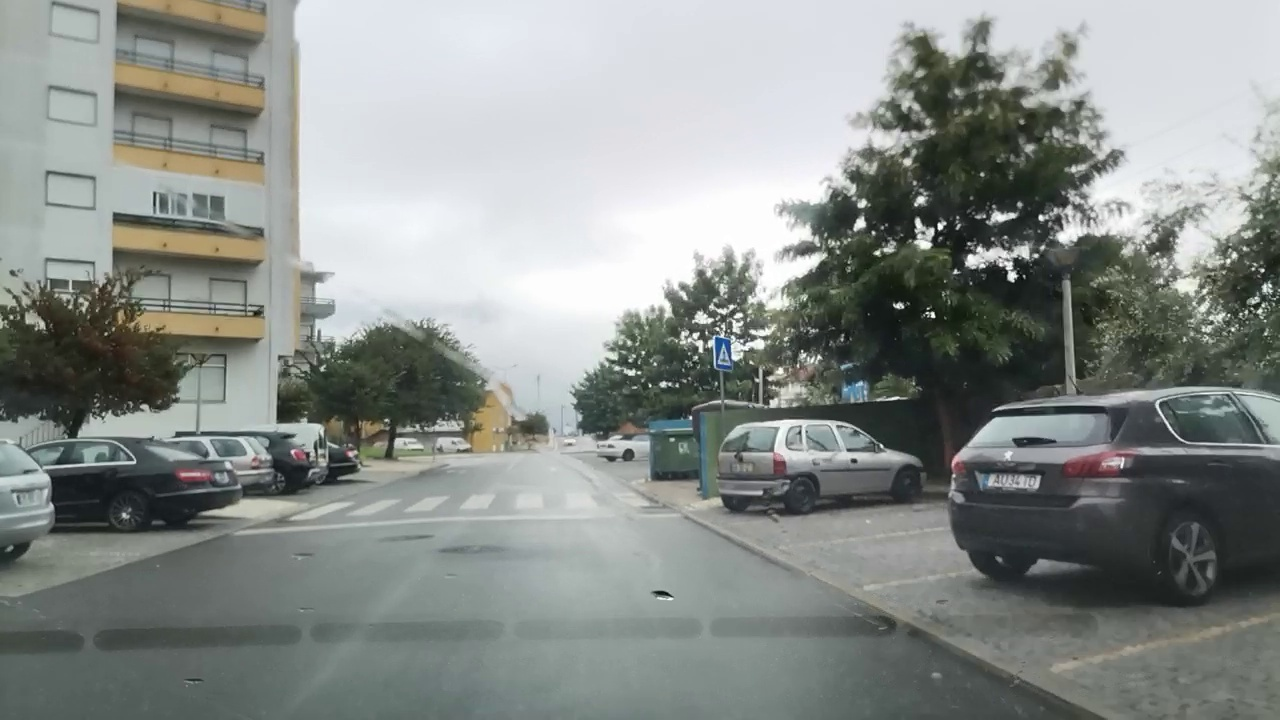Stairs: (282, 488, 652, 522)
